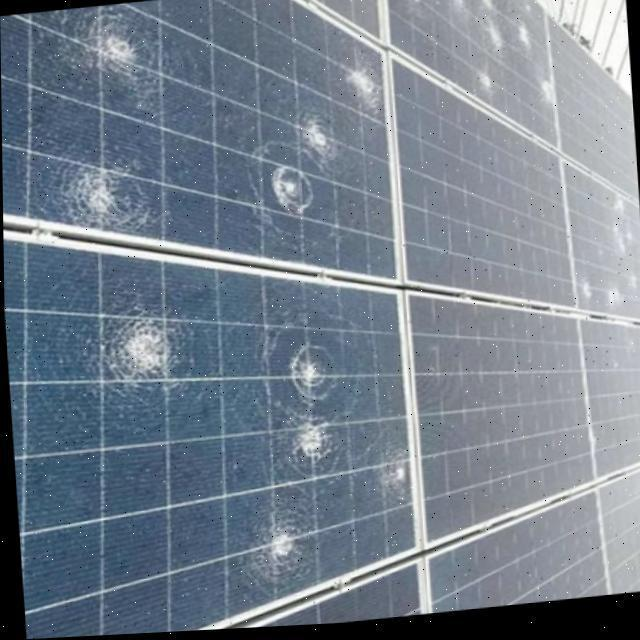Anomaly Solar Panel: (3, 198, 418, 639), (0, 0, 394, 319), (385, 0, 558, 155), (560, 164, 640, 327)
Normal Solar Panel: (405, 298, 596, 549), (391, 64, 573, 311), (425, 500, 606, 618), (547, 19, 639, 209), (578, 324, 640, 488), (596, 478, 640, 601)
Structural Damage: (60, 6, 183, 112), (96, 309, 191, 395), (63, 150, 147, 238), (254, 156, 329, 233), (284, 101, 355, 181), (251, 509, 311, 579), (285, 348, 334, 410), (285, 420, 335, 470), (340, 63, 383, 119), (381, 451, 421, 509), (602, 200, 636, 265), (479, 0, 509, 61), (511, 24, 537, 62), (473, 72, 494, 106), (603, 294, 623, 318), (539, 84, 553, 113), (581, 290, 592, 308)
